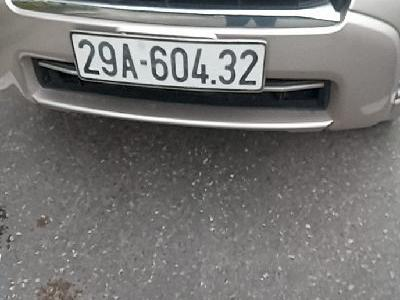lisence: (69, 29, 268, 94)
